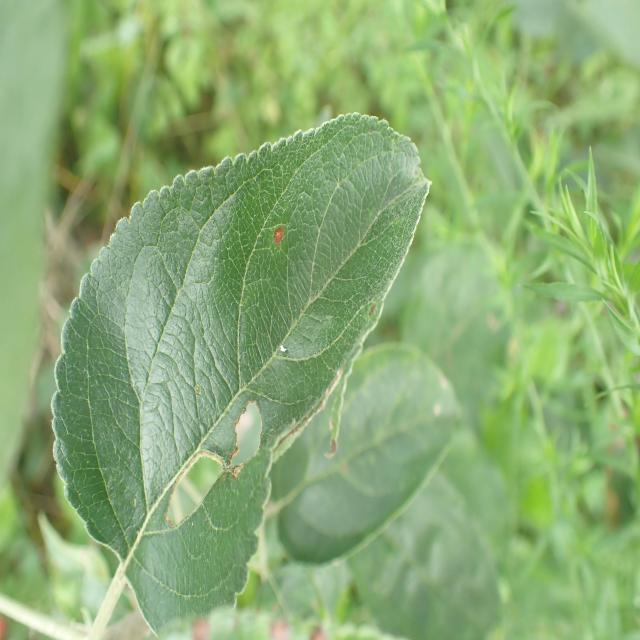Black Rot: (152, 444, 230, 544), (226, 381, 277, 491), (264, 213, 290, 263)
